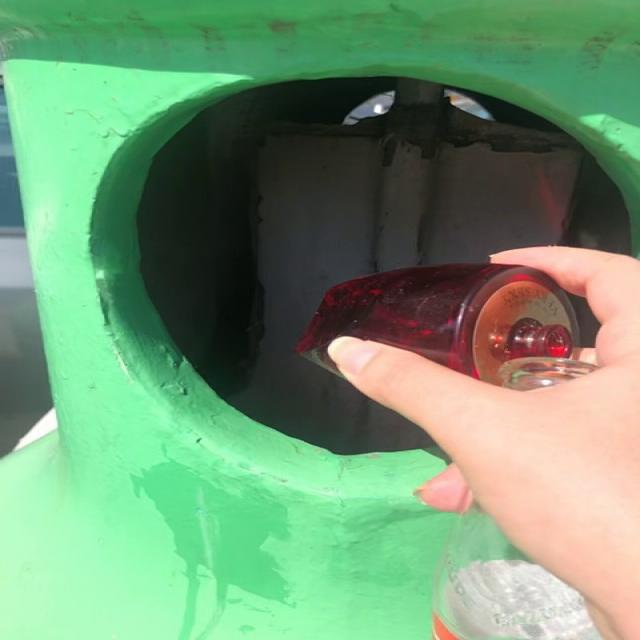glass: (296, 265, 580, 384)
